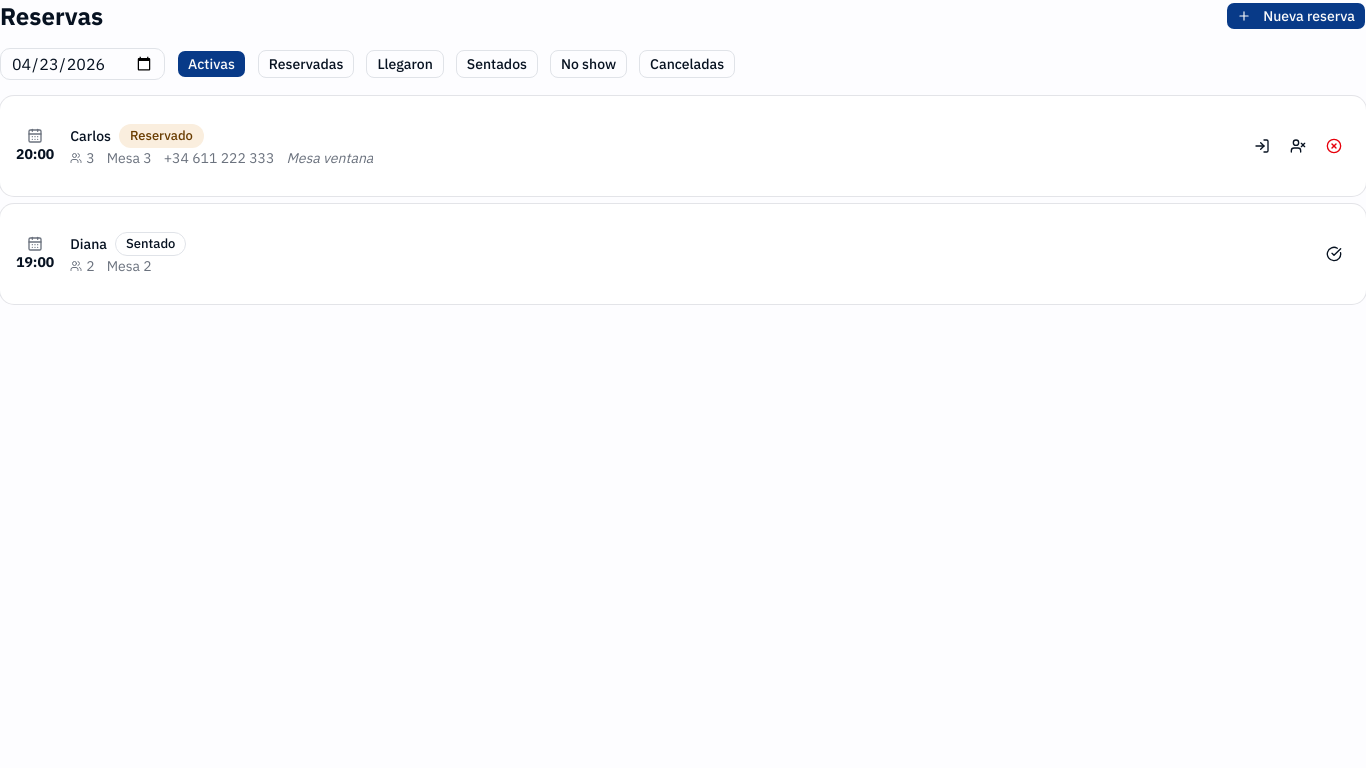
it: ReservationsPage › opens create dialog
Click the button "Nueva reserva".
click(1296, 16)  # box [1226, 2, 1365, 30]
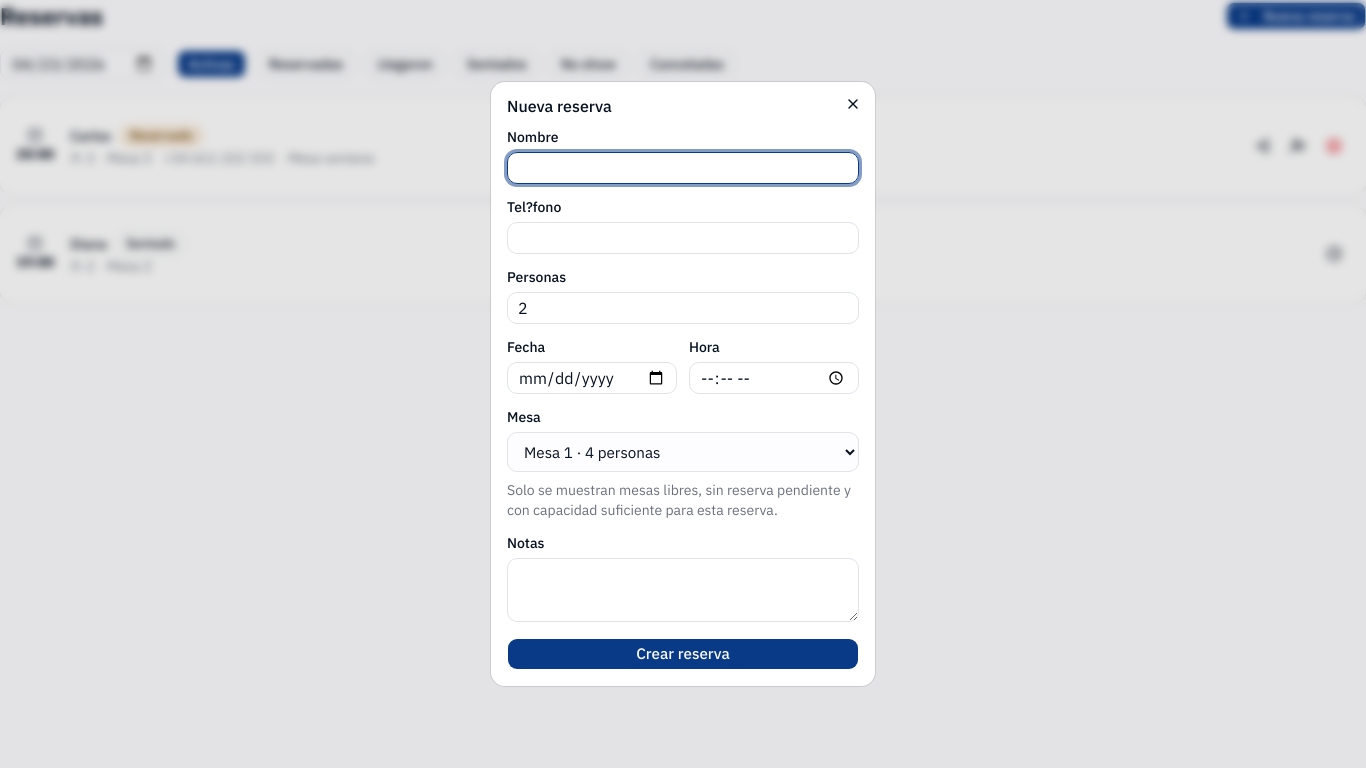
Now the button "Crear reserva" is shown, box [507, 638, 859, 670]
